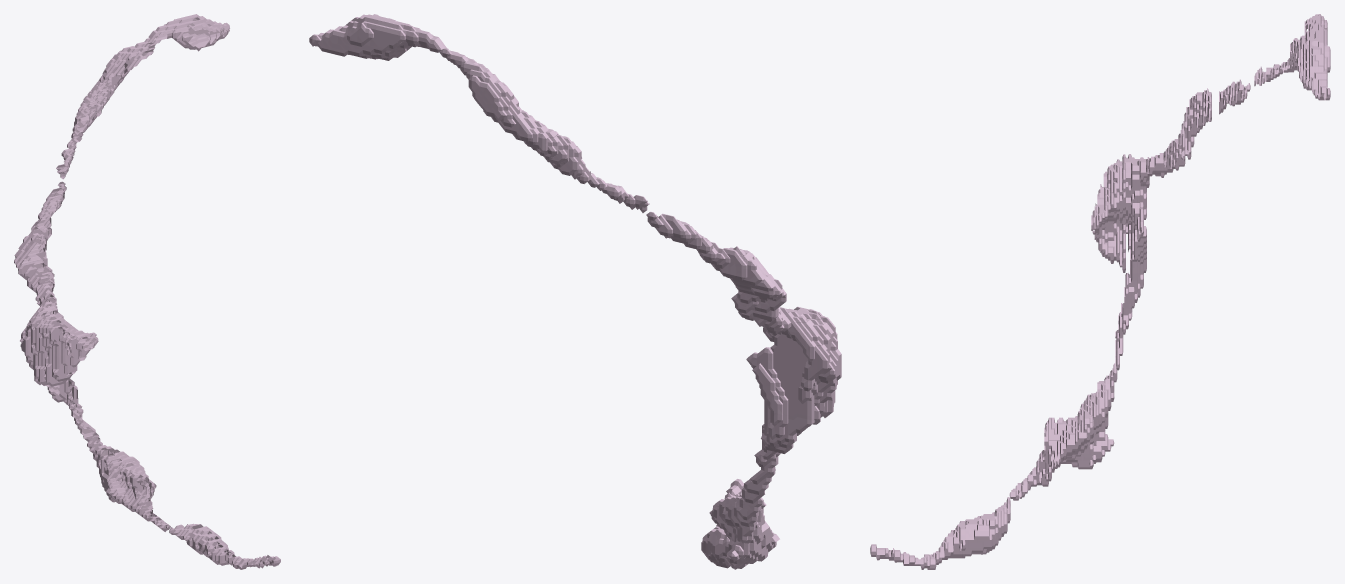
The model's file is SVV_AIAL.gltf.
3 views of the same model, side by side, from view 1: azimuth 30°, elevation 25°; view 2: azimuth 150°, elevation 25°; view 3: azimuth 270°, elevation 25° (orthographic). The views are drawn at different scales.
Visible parts, largest first — view 1: AIAL; view 2: AIAL; view 3: AIAL.
Part boxes in pixels (x1,y1,x2,y2): AIAL: [14, 14, 280, 569]; AIAL: [309, 14, 841, 569]; AIAL: [870, 14, 1330, 569].
Bounding box in the file's own units: 57353 × 84523 × 59665.
